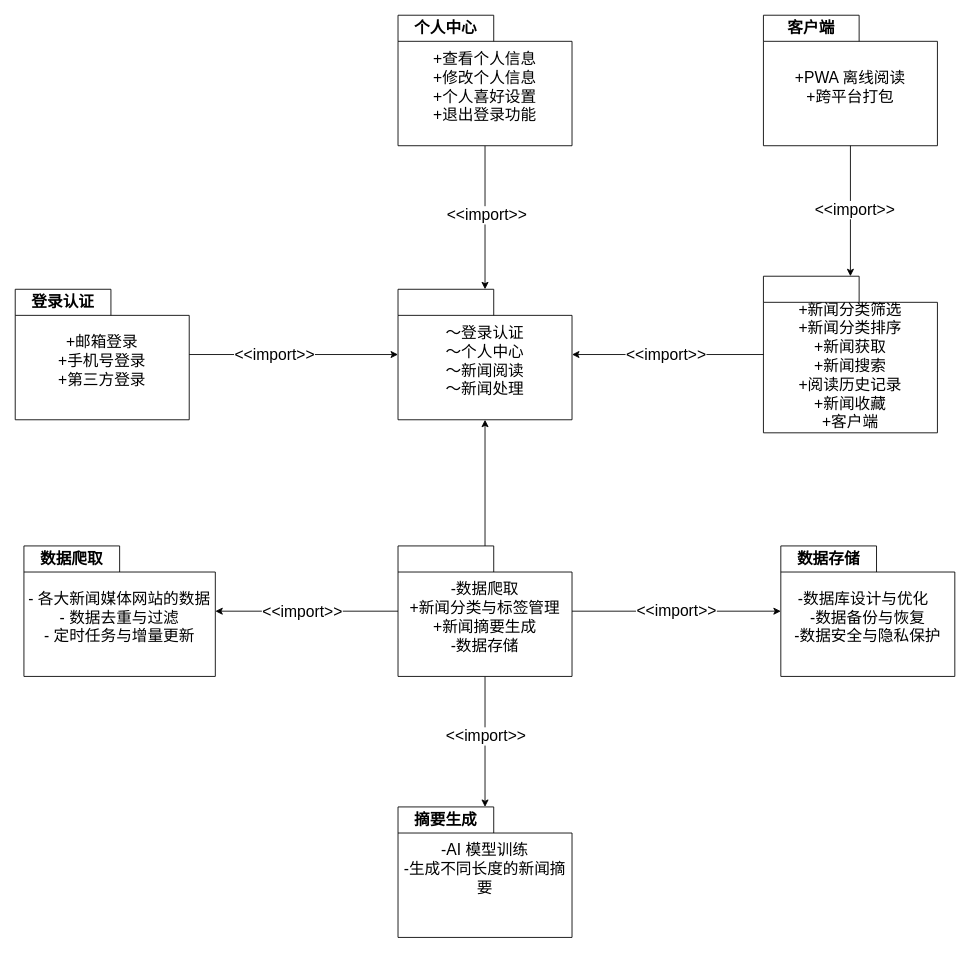
This 970x953 diagram has some shape labels left out. Here are the shapes that lost their labels. From the top down, the box of each, then its label:
(397, 288, 572, 420): 主窗口
(763, 275, 937, 433): 新闻阅读
(397, 545, 572, 676): 新闻处理
